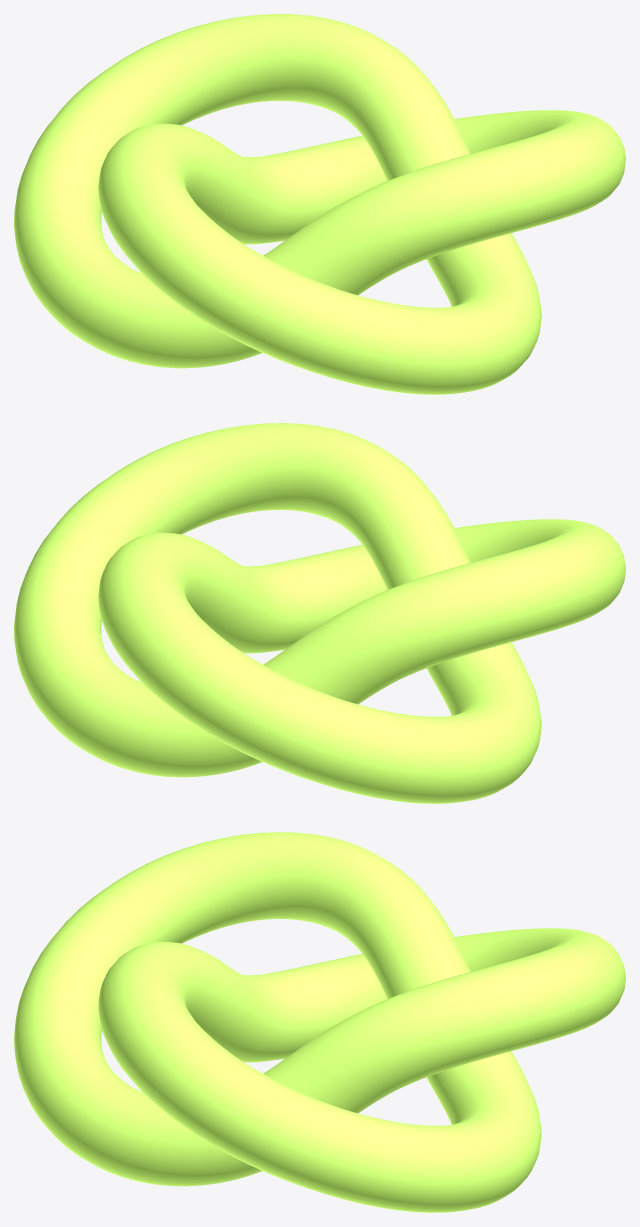
Rendered from knot.glb.
3 views of the same model, one above another, from view 1: azimuth 30°, elevation 25°; view 2: azimuth 150°, elevation 25°; view 3: azimuth 270°, elevation 25° (orthographic).
Parts seen in each view (by area): view 1: Knot; view 2: Knot; view 3: Knot.
Boxes of the visible parts, bbox=[...] form: Knot: bbox=[14, 14, 625, 394]; Knot: bbox=[14, 423, 625, 803]; Knot: bbox=[14, 832, 625, 1212].
Bounding box in the file's own units: 4.59 × 1.78 × 4.77.
